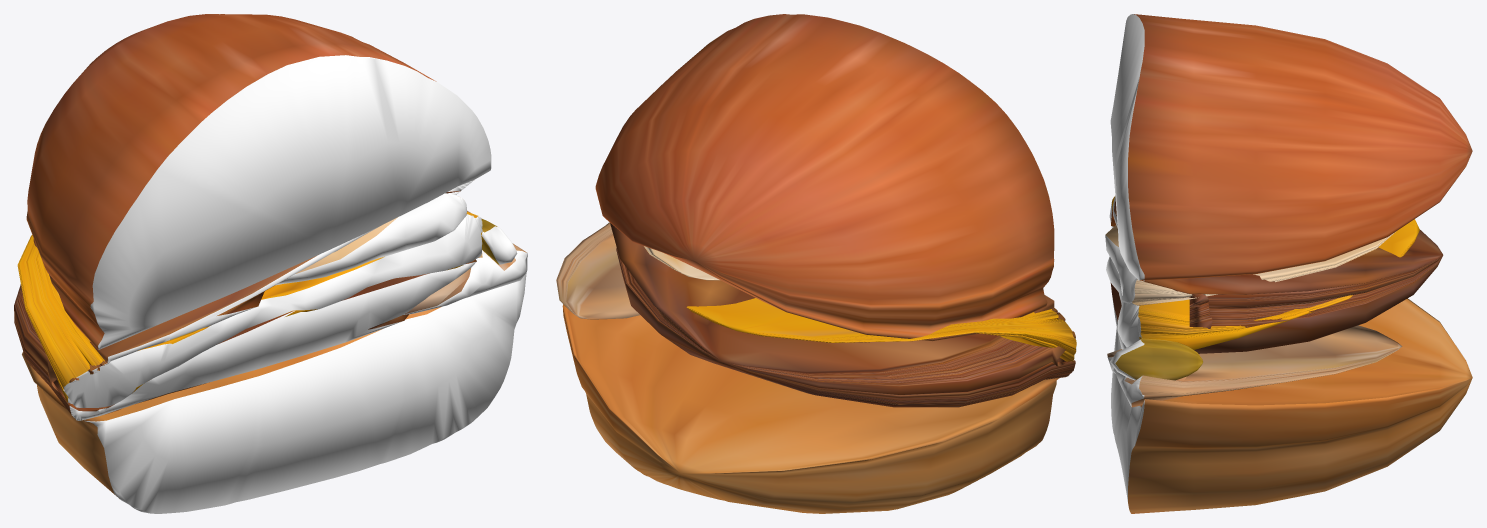
Rendered from 100-percento-vegano.glb.
3 views of the same model, side by side, from view 1: azimuth 30°, elevation 25°; view 2: azimuth 150°, elevation 25°; view 3: azimuth 270°, elevation 25° (orthographic).
Visible parts, largest first — view 1: ingredient_00_top_bun_solid.004, ingredient_06_bottom_bun_solid.002, ingredient_03_beyond_patty_solid, ingredient_02_vegan_cheddar_solid, ingredient_01_mayo_solid, ingredient_05_bottom_mayo_solid, ingredient_04_pickle_solid; view 2: ingredient_00_top_bun_solid.004, ingredient_06_bottom_bun_solid.002, ingredient_03_beyond_patty_solid, ingredient_02_vegan_cheddar_solid, ingredient_05_bottom_mayo_solid, ingredient_01_mayo_solid; view 3: ingredient_00_top_bun_solid.004, ingredient_06_bottom_bun_solid.002, ingredient_03_beyond_patty_solid, ingredient_05_bottom_mayo_solid, ingredient_02_vegan_cheddar_solid, ingredient_01_mayo_solid, ingredient_04_pickle_solid.
Boxes of the visible parts, bbox=[...] form: ingredient_00_top_bun_solid.004: bbox=[26, 14, 491, 349]; ingredient_06_bottom_bun_solid.002: bbox=[22, 272, 526, 513]; ingredient_03_beyond_patty_solid: bbox=[14, 180, 476, 420]; ingredient_02_vegan_cheddar_solid: bbox=[17, 211, 482, 407]; ingredient_01_mayo_solid: bbox=[275, 191, 467, 285]; ingredient_05_bottom_mayo_solid: bbox=[403, 210, 527, 314]; ingredient_04_pickle_solid: bbox=[481, 219, 517, 264]; ingredient_00_top_bun_solid.004: bbox=[595, 14, 1054, 341]; ingredient_06_bottom_bun_solid.002: bbox=[562, 304, 1059, 513]; ingredient_03_beyond_patty_solid: bbox=[610, 223, 1075, 407]; ingredient_02_vegan_cheddar_solid: bbox=[686, 298, 1076, 361]; ingredient_05_bottom_mayo_solid: bbox=[556, 222, 639, 319]; ingredient_01_mayo_solid: bbox=[644, 246, 719, 280]; ingredient_00_top_bun_solid.004: bbox=[1110, 14, 1472, 280]; ingredient_06_bottom_bun_solid.002: bbox=[1111, 298, 1472, 513]; ingredient_03_beyond_patty_solid: bbox=[1110, 196, 1443, 353]; ingredient_05_bottom_mayo_solid: bbox=[1107, 325, 1402, 407]; ingredient_02_vegan_cheddar_solid: bbox=[1106, 196, 1419, 349]; ingredient_01_mayo_solid: bbox=[1105, 225, 1395, 305]; ingredient_04_pickle_solid: bbox=[1110, 338, 1202, 380].
Bounding box in the file's own units: 1.82 × 1.61 × 1.25.
